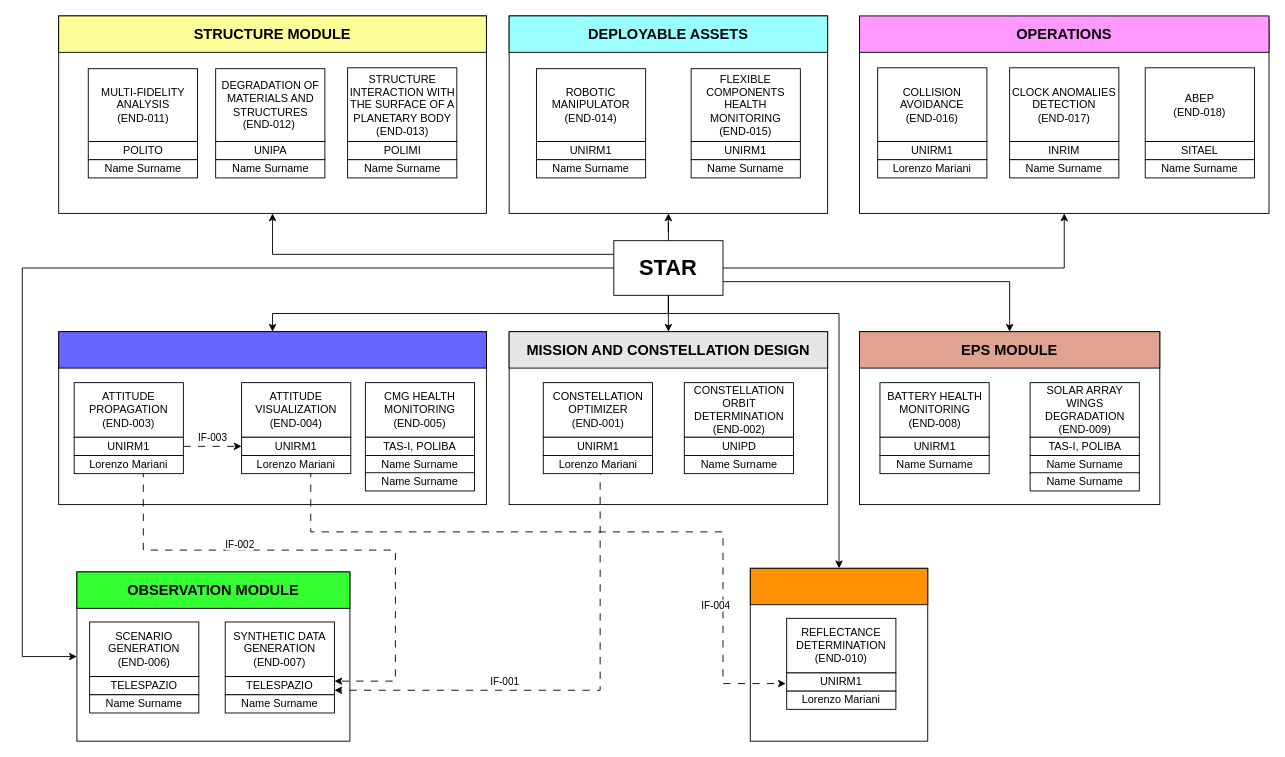
This 1285x757 diagram has some shape labels left out. The shapes that lost their labels are listed below. From the top down, each one's centre as x and y in pixels, then its label:
At point 272,349: "ATTITUDE MODULE".
At point 838,586: "ENVIRONMENT IMPACT".
